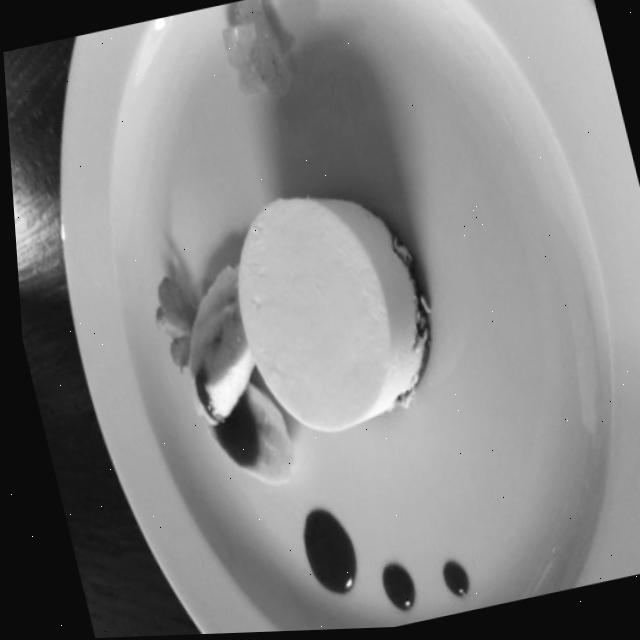熟制海鲜: (7, 0, 587, 640)
